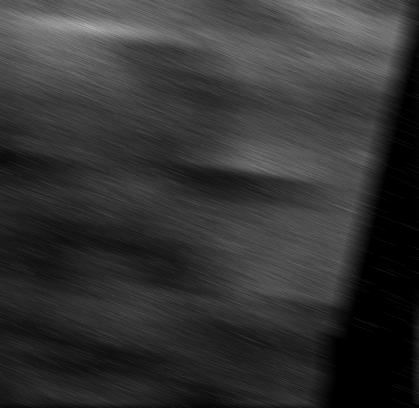Airbag: (0, 0, 418, 408), (0, 406, 419, 408)
